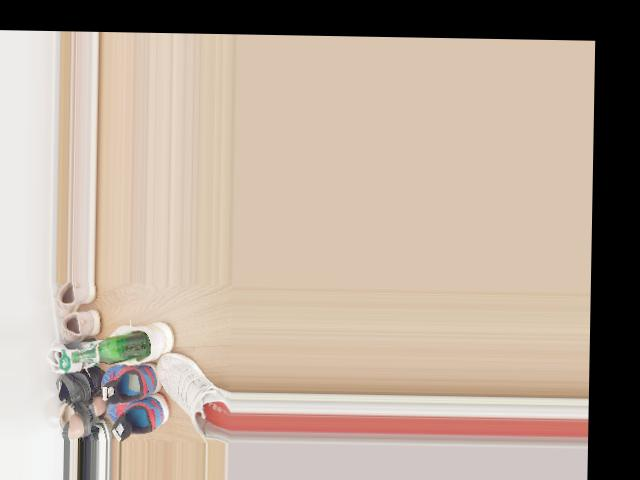beer: (72, 330, 150, 365)
